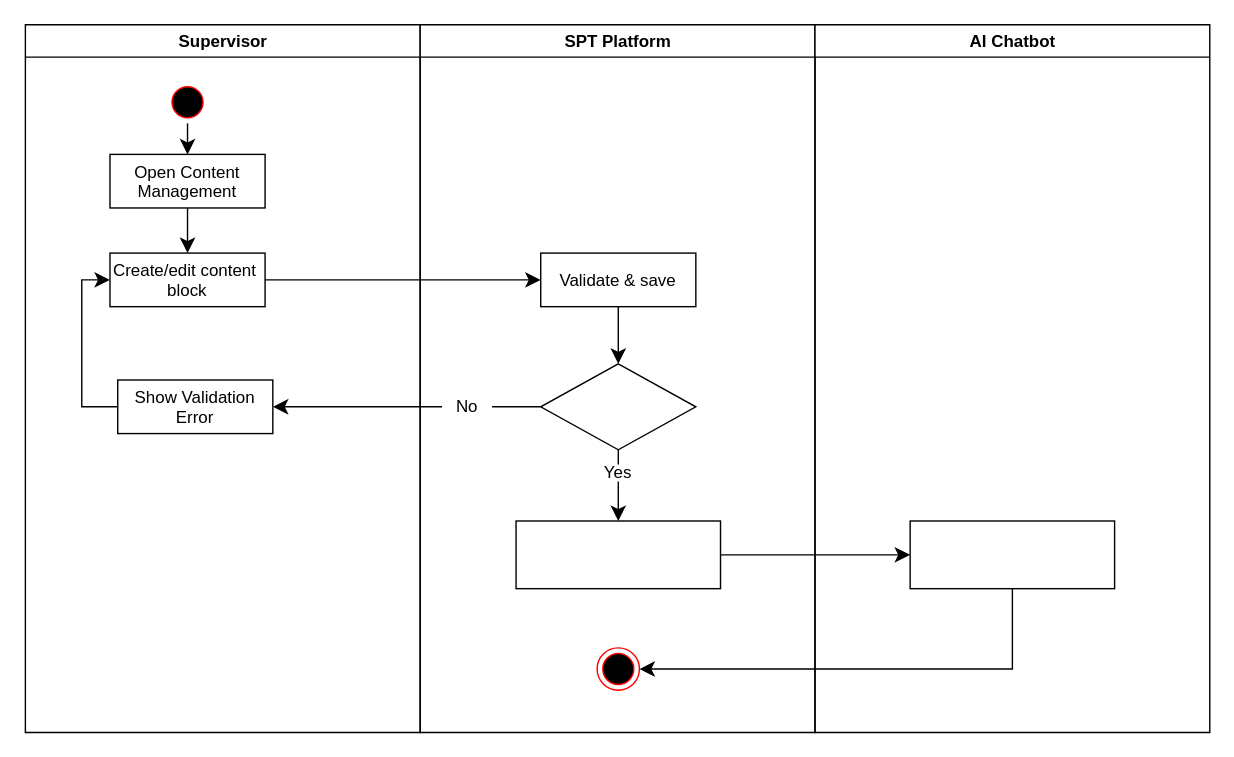
This 1234x757 diagram has some shape labels left out. Each missing label, with the centre of its shape:
"AI Chatbot References latest content" goes at (x=1012, y=554).
"Are Changes Valid?" goes at (x=617, y=406).
"Update Database" goes at (x=618, y=554).
